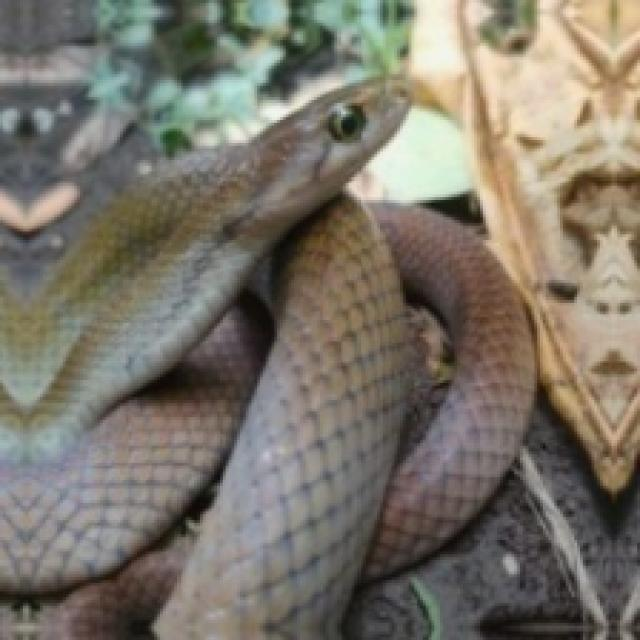reddish rat snake: (0, 77, 531, 637)
